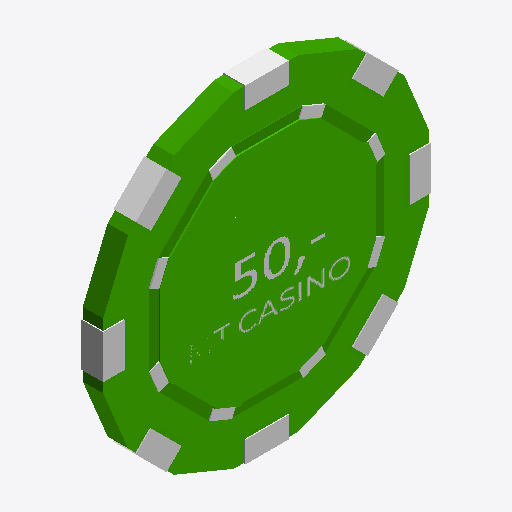
Isometric view (azimuth 45°, elevation 35.3°) of a Minecraft model made of 66 cuboids, textured from the same repository.
Parts seen in each view (by area): hexadecagon (×35).
Part boxes in pixels (x1,y1,x2,y2): hexadecagon (×35): (81, 37, 430, 474).
Bounding box in the file's own units: 16.1 × 16.1 × 1.2.